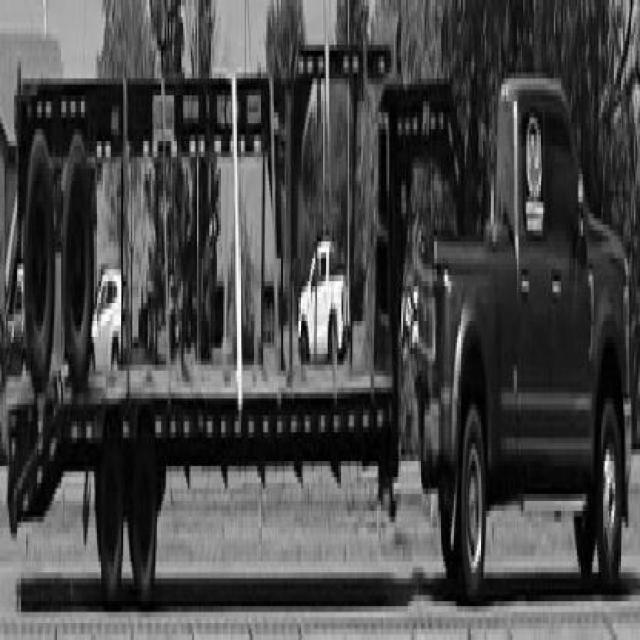Pickup: (427, 77, 631, 600)
Trailer: (0, 43, 481, 610)
